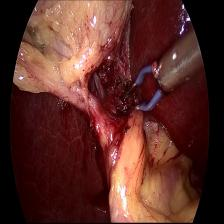Bipolar: (116, 43, 184, 126)
